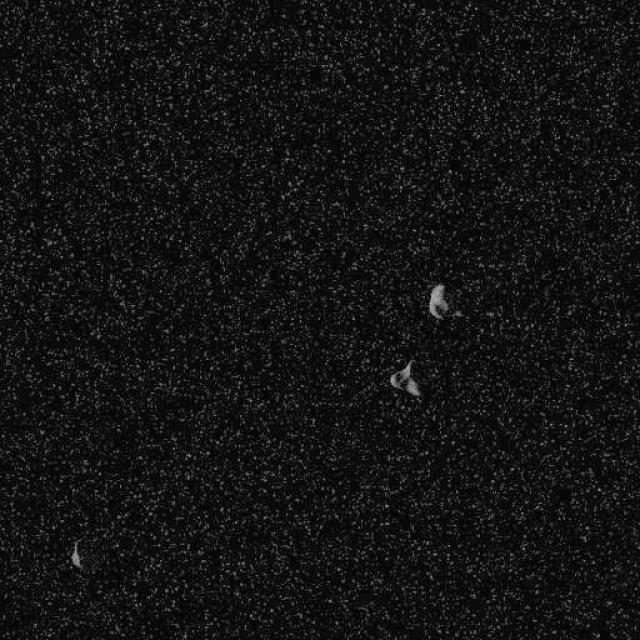D2: (389, 358, 421, 398), (428, 282, 448, 320), (68, 538, 84, 568)
